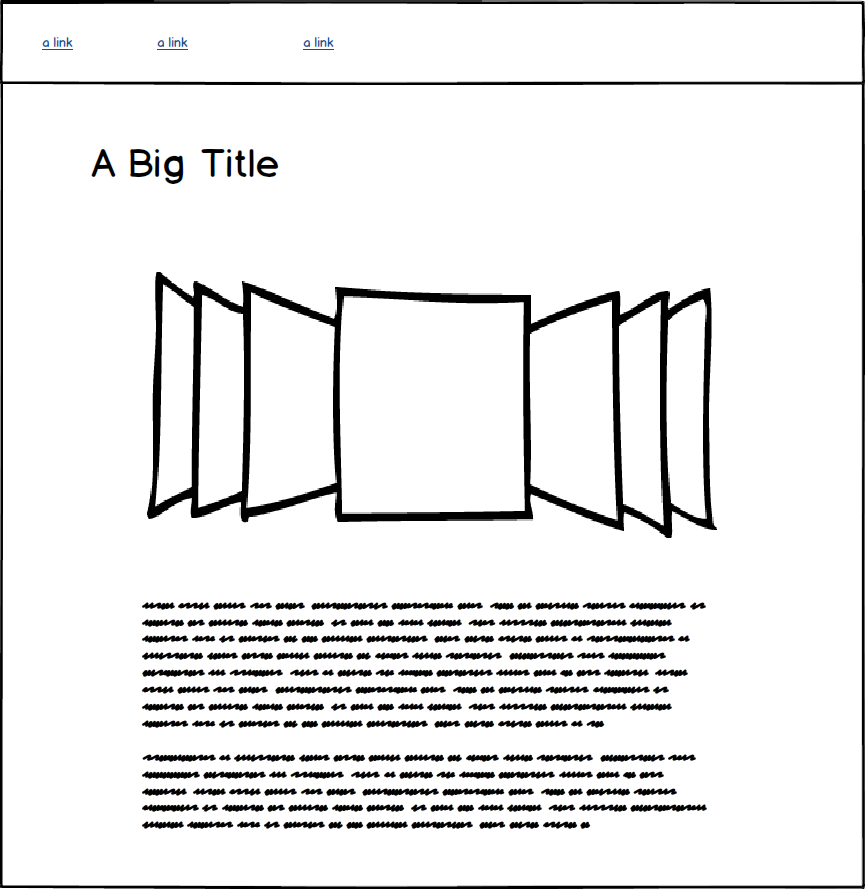h1: (87, 140, 288, 189)
navlink: (148, 28, 198, 58), (297, 29, 338, 58), (37, 28, 82, 54)
p: (136, 598, 720, 843)
slideshow: (144, 262, 722, 550)
